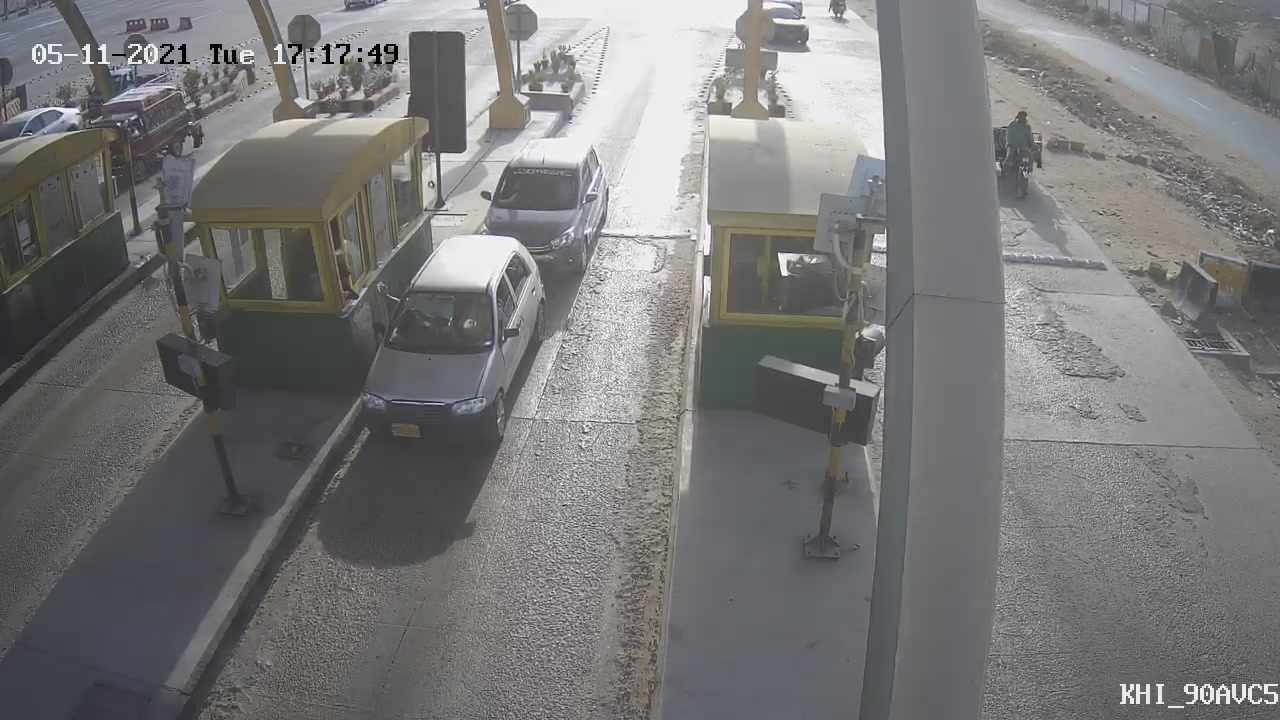F1: (340, 220, 560, 466), (466, 127, 625, 295)
